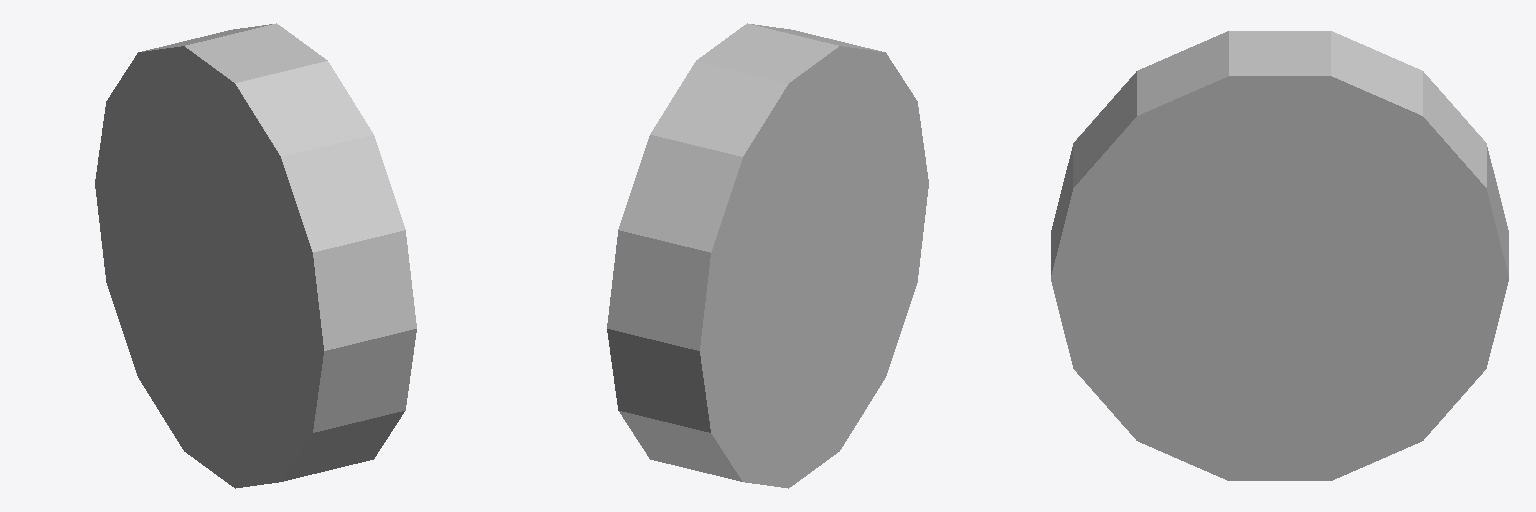
Rendered from BackRightWheel.obj.
The picture shows the model from 3 angles: view 1: azimuth 30°, elevation 25°; view 2: azimuth 150°, elevation 25°; view 3: azimuth 270°, elevation 25°; orthographic projection.
Parts seen in each view (by area): view 1: Back_Right_Wheel; view 2: Back_Right_Wheel; view 3: Back_Right_Wheel.
Part boxes in pixels (x1,y1,x2,y2): Back_Right_Wheel: (95, 23, 416, 488); Back_Right_Wheel: (607, 23, 928, 488); Back_Right_Wheel: (1051, 31, 1508, 480).
Size of the model in its own units: 0.0396 by 0.1651 by 0.1693.